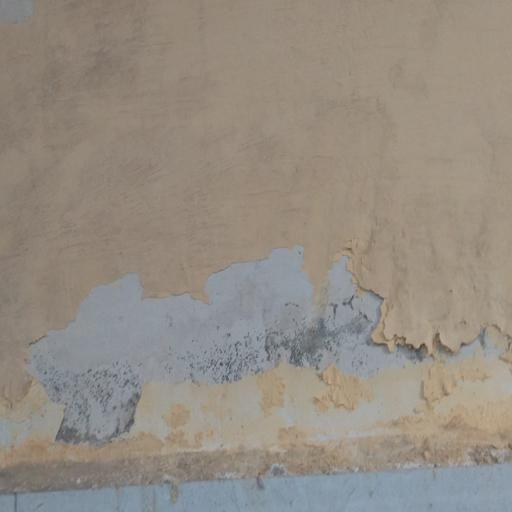peeling: (11, 237, 512, 461)
